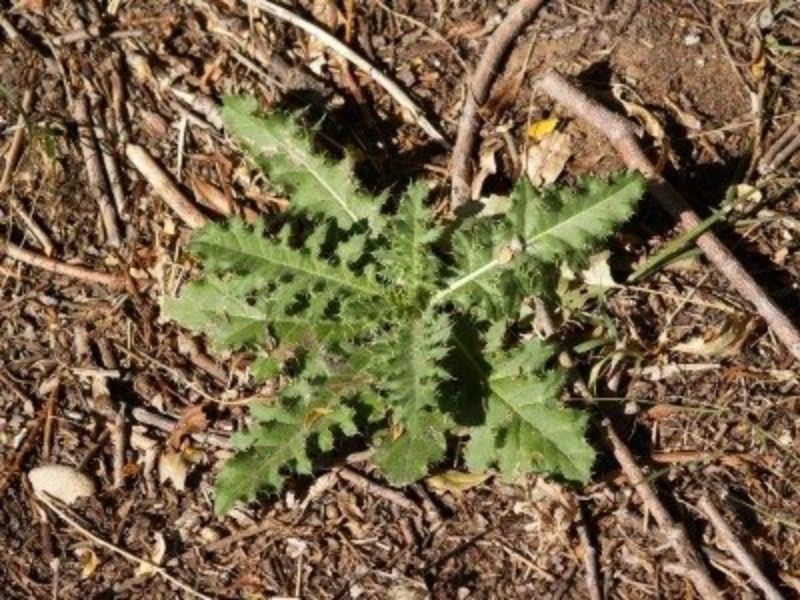weed: (153, 97, 641, 508)
